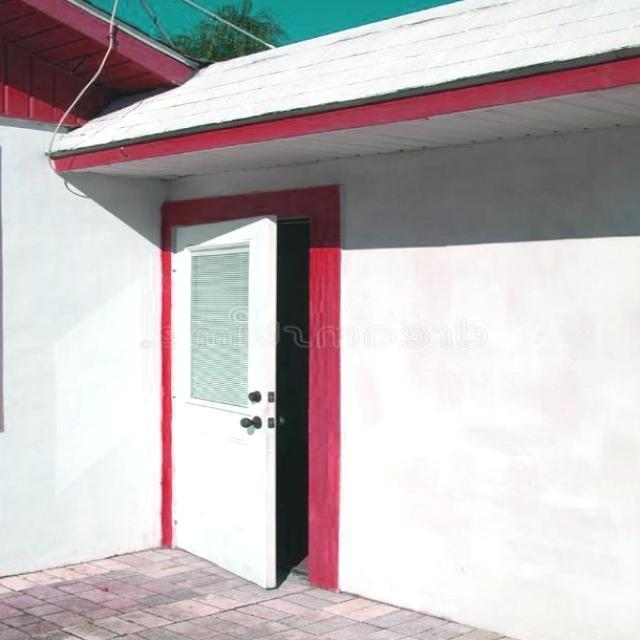door: (159, 210, 283, 592)
